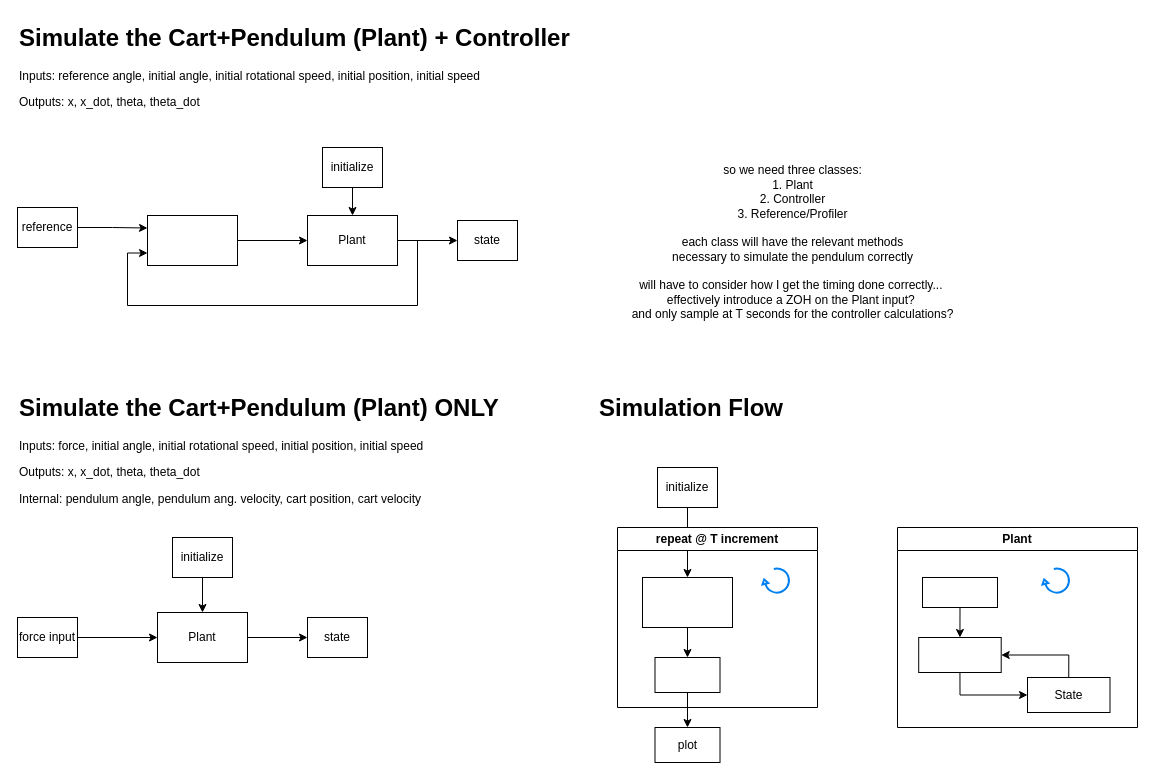
This 1155x780 diagram has some shape labels left out. Here are the shapes that lost their labels. From the top down, the centre of each, then its label:
At point (192, 240): "Controller".
At point (687, 602): "Plant (nonlinear)".
At point (960, 592): "EOM".
At point (687, 674): "data array".
At point (959, 654): "Runge-Kutta".
